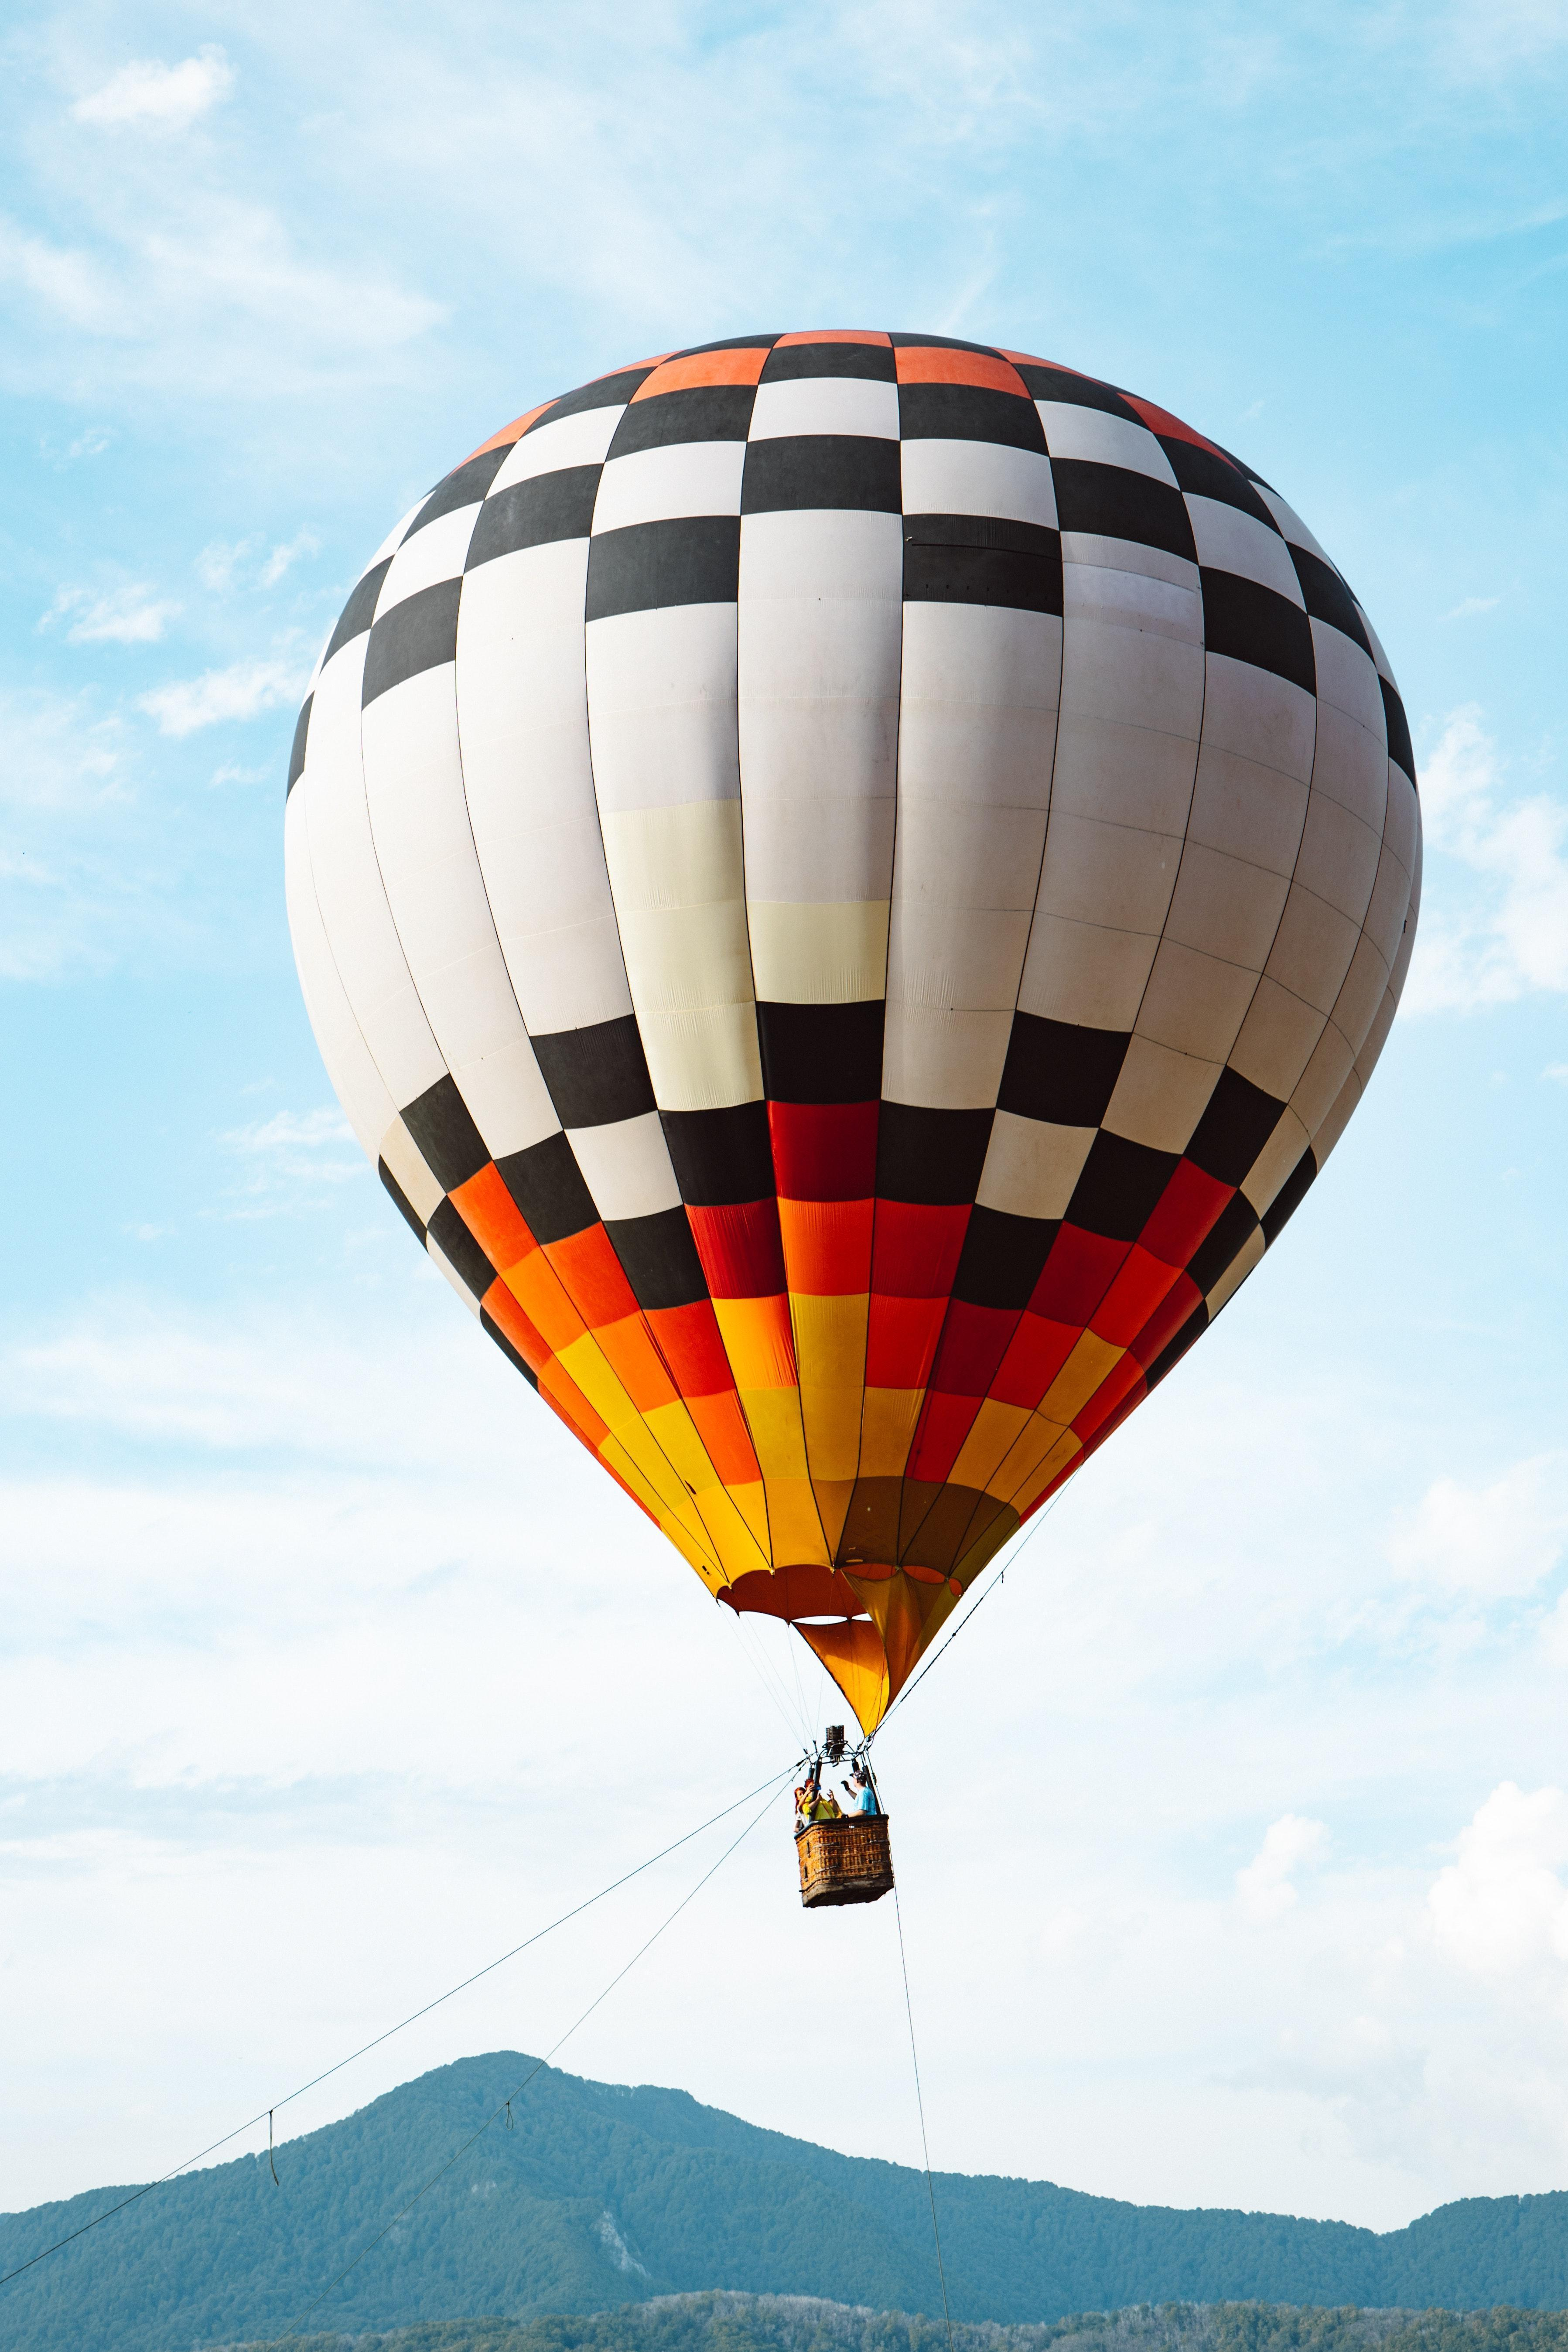hot air ballon: (276, 304, 1442, 1928)
